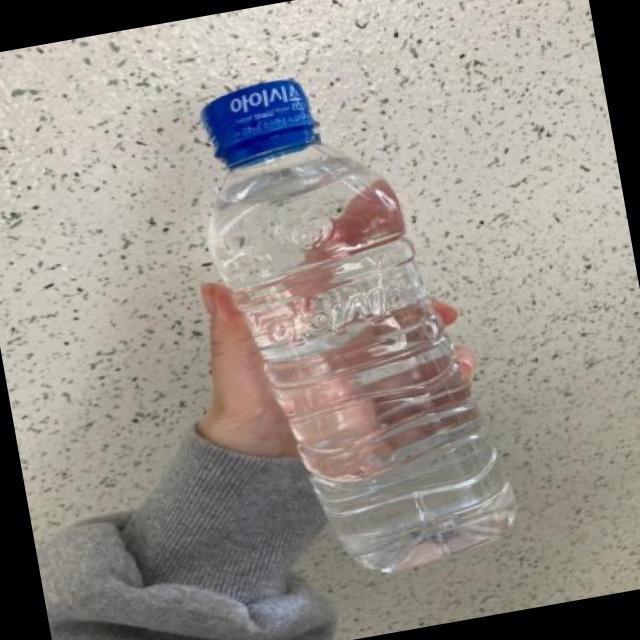plastic_bottle: (179, 53, 526, 598)
